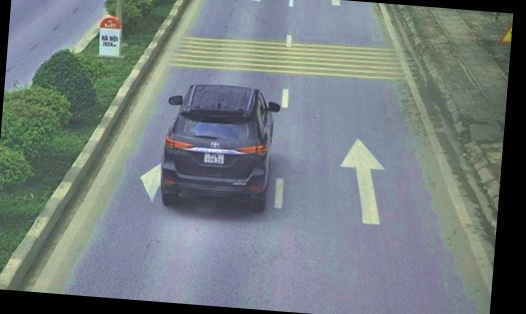Bien-so: (216, 150, 237, 164)
